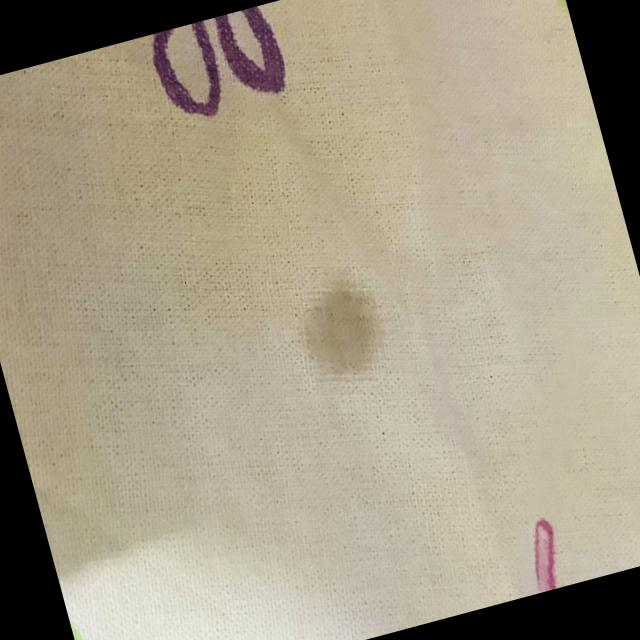stain: (286, 267, 394, 393)
